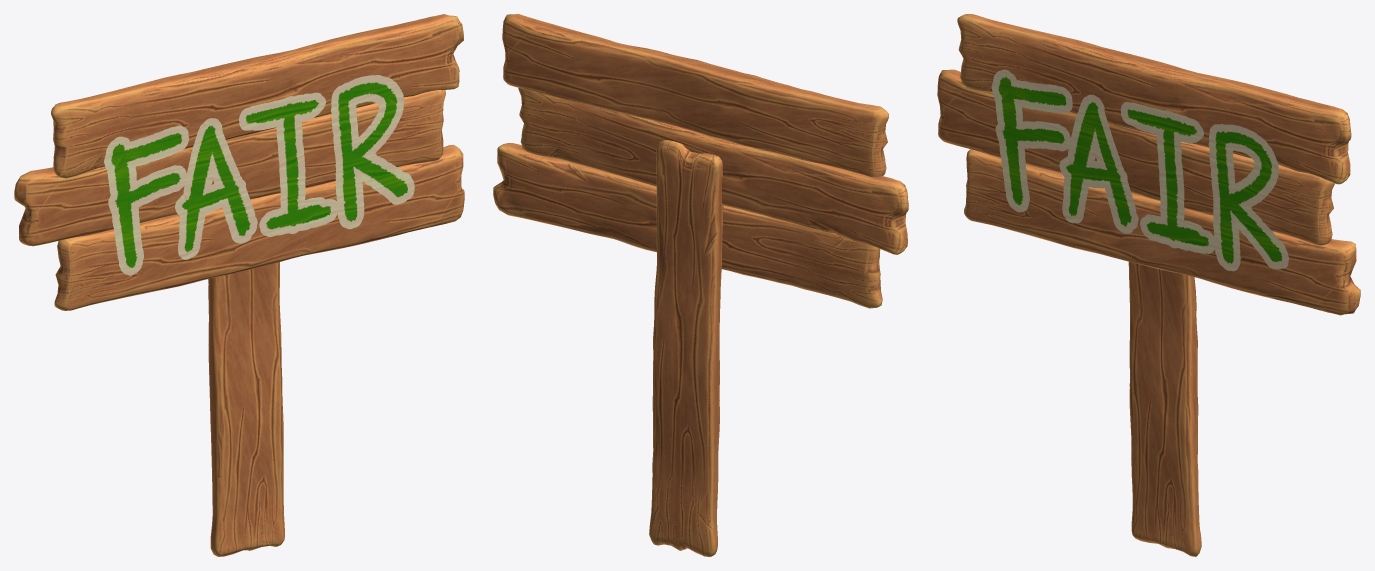
The model's file is SIGN_fair.fbx.
3 views of the same model, side by side, from view 1: azimuth 30°, elevation 25°; view 2: azimuth 150°, elevation 25°; view 3: azimuth 330°, elevation 25° (orthographic). The views are drawn at different scales.
Parts seen in each view (by area): view 1: wooden_sign_fair, words_fair; view 2: wooden_sign_fair; view 3: wooden_sign_fair, words_fair.
Boxes of the visible parts, x1=… form: wooden_sign_fair: x1=14, y1=14, x2=464, y2=556; words_fair: x1=104, y1=75, x2=414, y2=275; wooden_sign_fair: x1=493, y1=14, x2=908, y2=556; wooden_sign_fair: x1=937, y1=14, x2=1360, y2=556; words_fair: x1=991, y1=69, x2=1288, y2=271.
Size of the model in its own units: 107 by 116 by 11.71.
2 materials, 2 textured.
